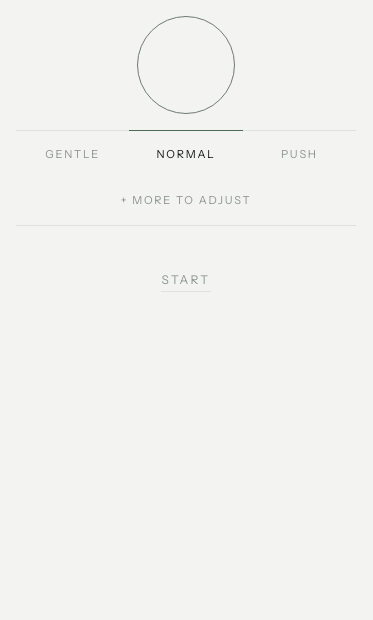
Test case: ConversationView roleplay picker (Phase 4) › fills the scene field with the picked scenario's setting
This screenshot has width=373, height=620.
Click the button "+ More to adjust" at (186, 200), box x1=121 y1=185 x2=251 y2=215
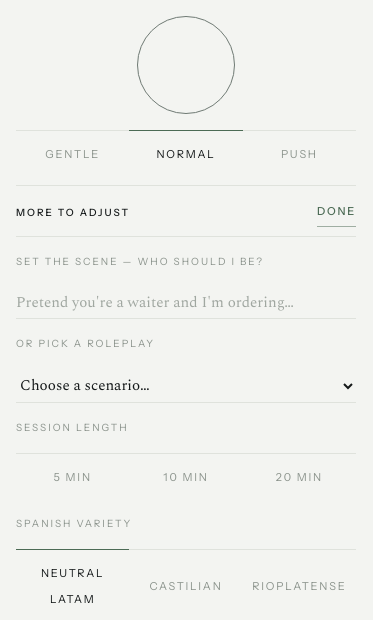
Select "Ordering coffee" in the dropdown labelled "Or pick a roleplay" at (186, 386), box x1=16 y1=369 x2=356 y2=403
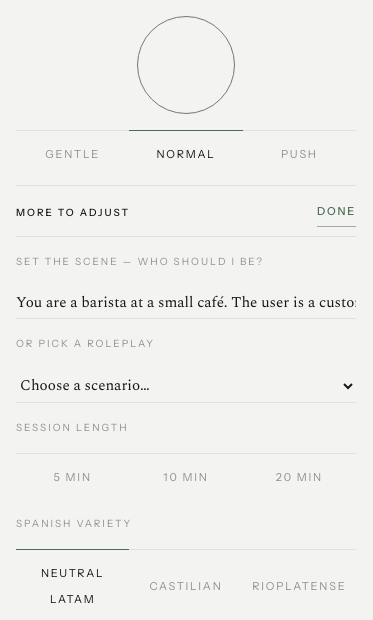
Check: the field labelled "Set the scene — who should I be?" holds "You are a barista at a small café. The user is a customer ordering a drink and something to eat.", box x1=16 y1=287 x2=356 y2=319
